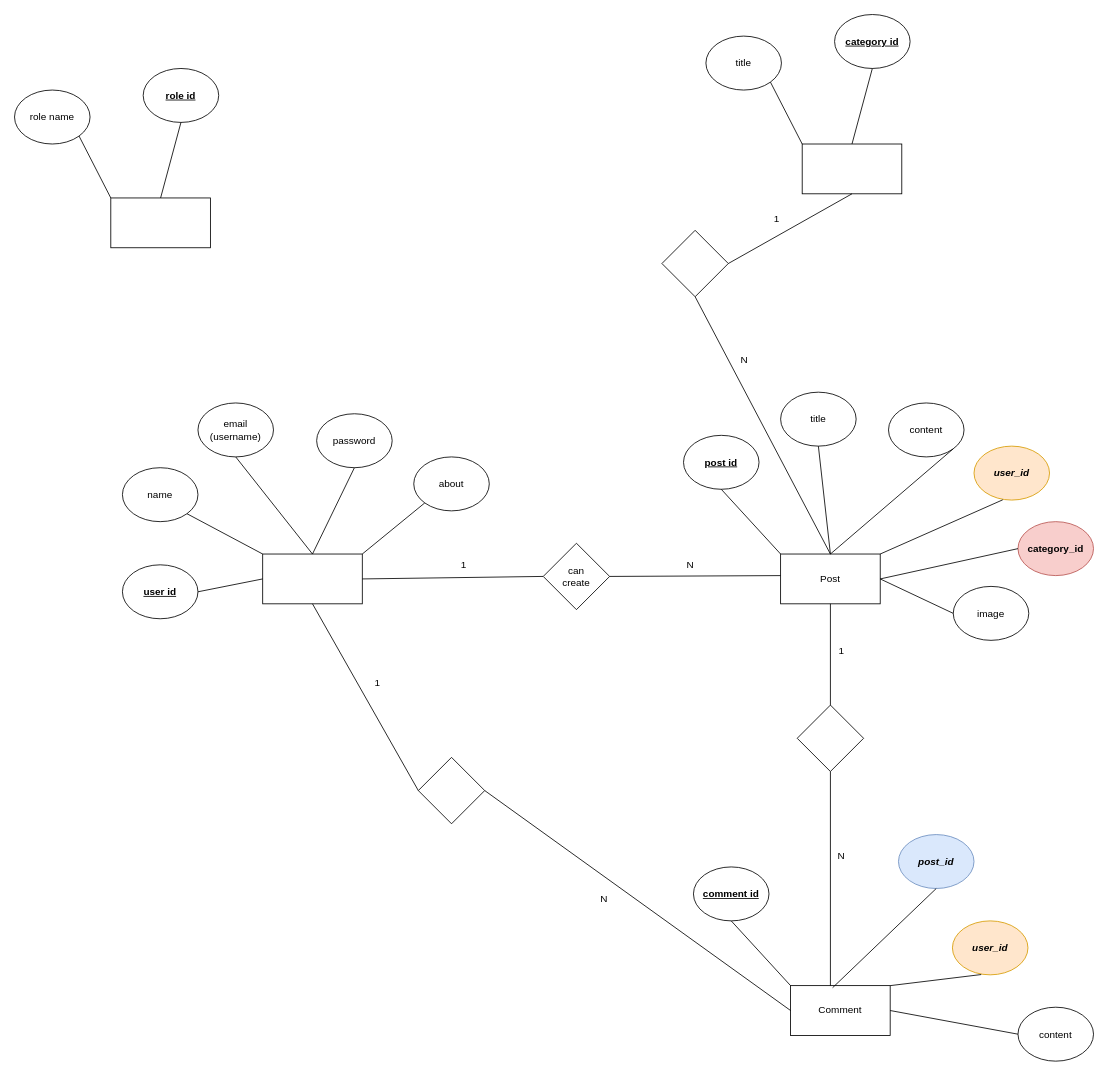
Image size: 1108x1076. Some labels were removed from this diagram. The centre of each missing label's shape, as x and y in pixels:
"Category" belongs at point (851, 168).
"contains" belongs at point (694, 263).
"have" belongs at point (830, 737).
"make" belongs at point (451, 790).
"Role" belongs at point (160, 222).
"User" belongs at point (312, 578).
